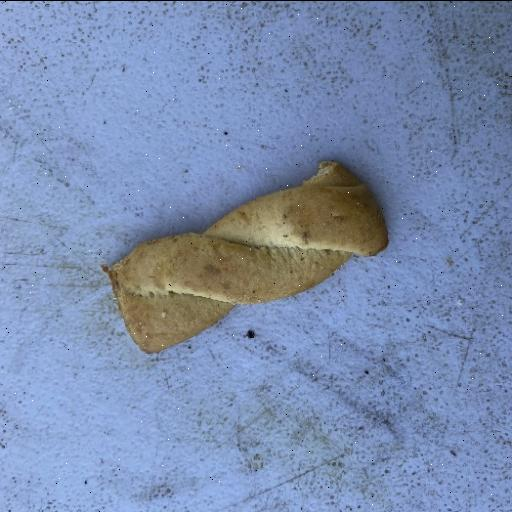Waste: (100, 158, 389, 356)
